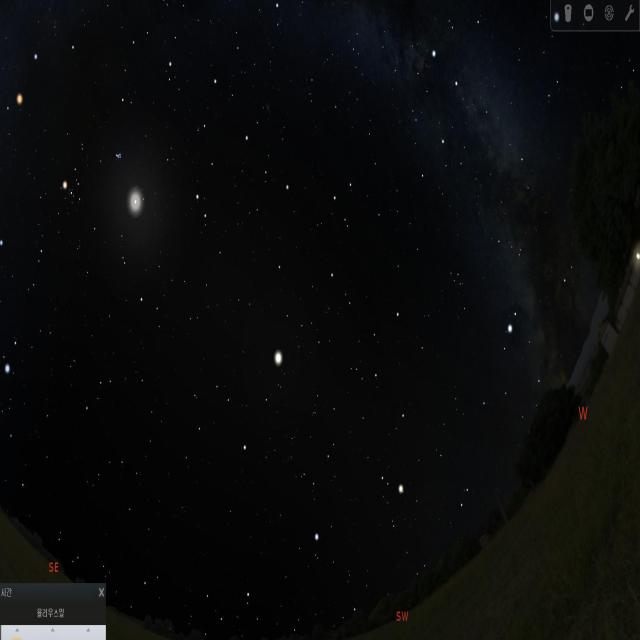aquila: (480, 311, 552, 464)
cygnus: (430, 13, 528, 179)
lyra: (542, 6, 560, 116)
moon: (111, 158, 161, 250)
pleiades: (108, 139, 128, 170)
taurus: (59, 126, 125, 222)
